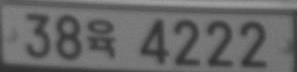2: (241, 21, 266, 66), (208, 20, 232, 66), (175, 20, 198, 64)
3: (26, 14, 50, 56)
4: (140, 18, 168, 63)
8: (56, 14, 81, 59)
육: (85, 19, 117, 56)
